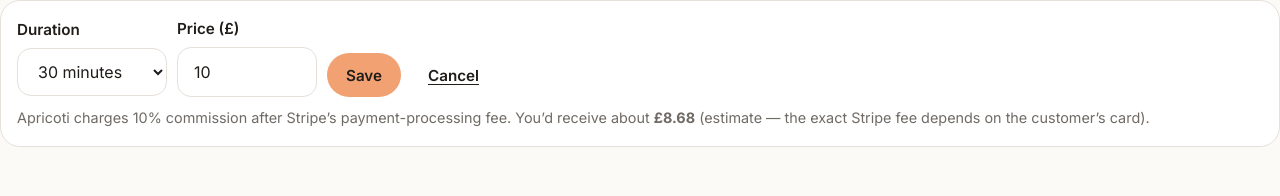
Scenario: SingleOfferRow › blocks saving a duration that another active offer already uses
The width and height of the screenshot is (1280, 196).
Select "45 minutes" in the dropdown labelled "Duration": (92, 72) left=17, top=48, right=167, bottom=96
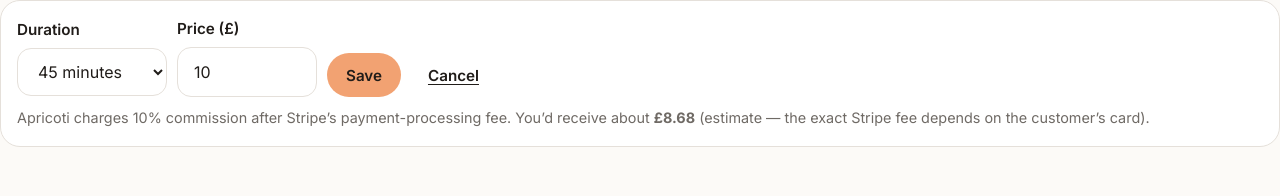
Click the button "Save": (364, 75) left=327, top=53, right=401, bottom=97
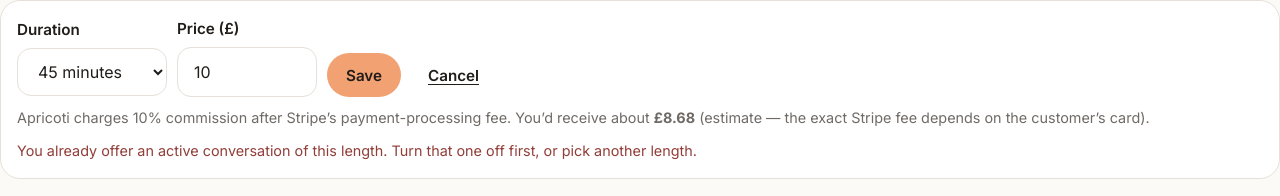
Expected: the text "already offer an active conversation of this length" is shown, left=17, top=142, right=697, bottom=159
